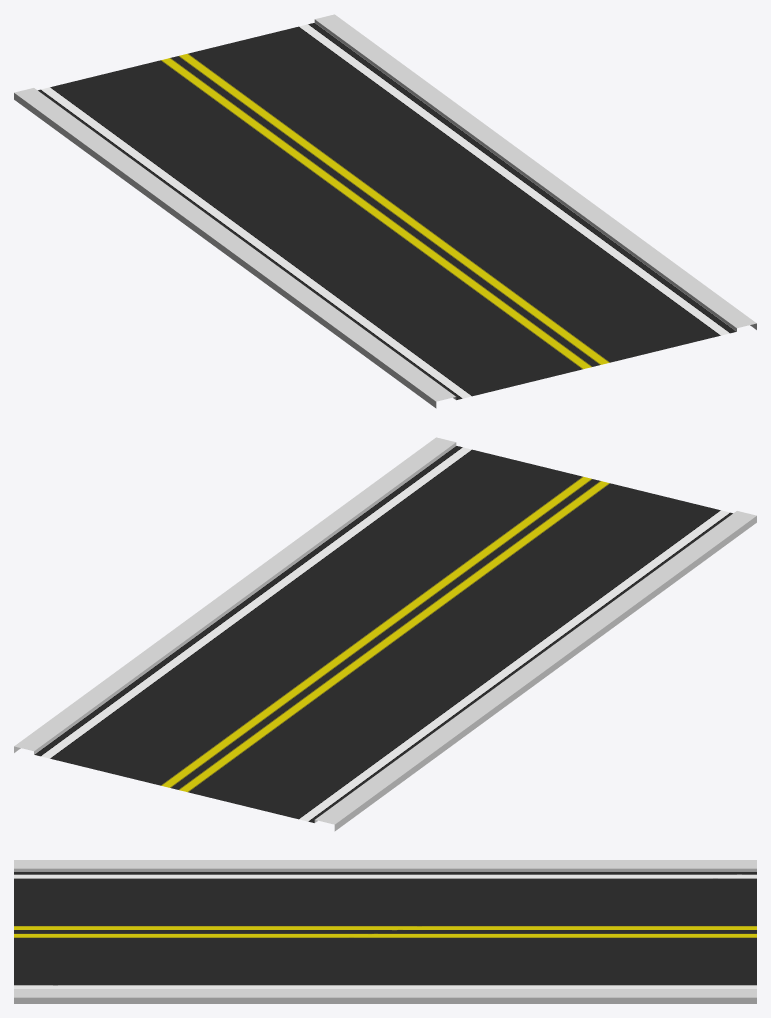
Rendered from newRoad.FBX.
The picture shows the model from 3 angles, top to bottom: view 1: azimuth 30°, elevation 25°; view 2: azimuth 150°, elevation 25°; view 3: azimuth 270°, elevation 25°; orthographic projection. The views are drawn at different scales.
Parts seen in each view (by area): view 1: Straight_2LN; view 2: Straight_2LN; view 3: Straight_2LN.
Boxes of the visible parts, x1,y1,x2,y2 form: Straight_2LN: (14, 14, 756, 408); Straight_2LN: (14, 437, 756, 831); Straight_2LN: (14, 860, 756, 1003).
Bounding box in the file's own units: 9650 × 199 × 22000.
